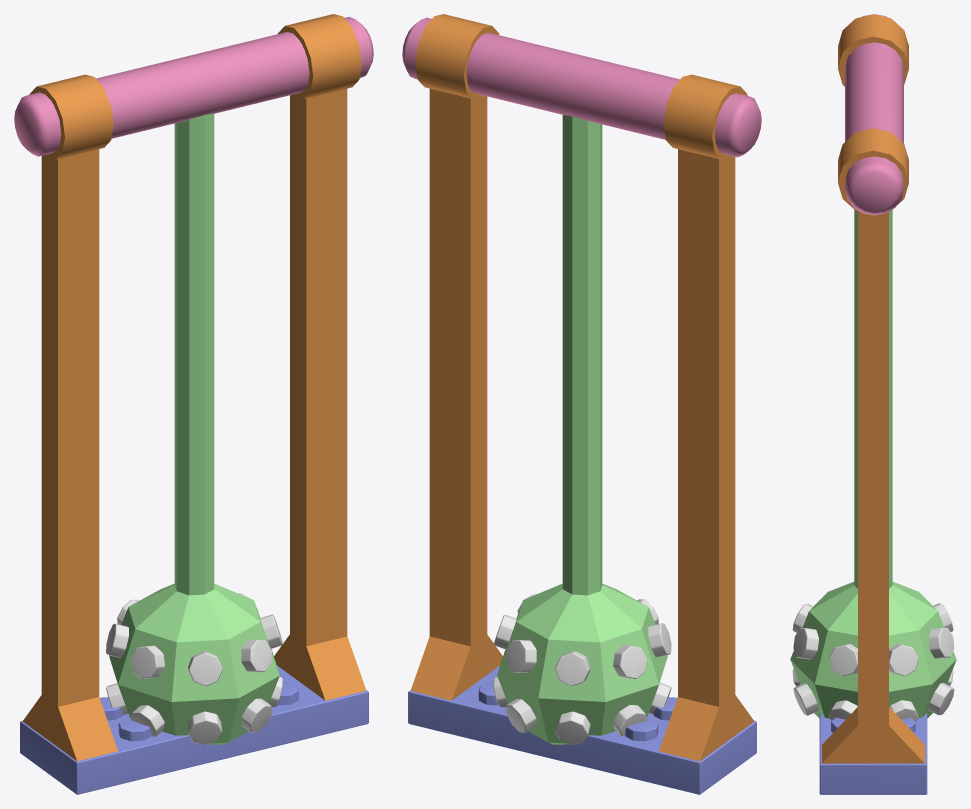
File: engel_yeni.fbx
3 views of the same model, side by side, from view 1: azimuth 30°, elevation 25°; view 2: azimuth 150°, elevation 25°; view 3: azimuth 270°, elevation 25° (orthographic). The views are drawn at different scales.
Parts seen in each view (by area): view 1: salincak, gurz, engel_demir, engelplatform_salincak_alt.001; view 2: salincak, gurz, engel_demir, engelplatform_salincak_alt.001; view 3: salincak, gurz, engel_demir, engelplatform_salincak_alt.001.
Boxes of the visible parts, bbox=[...] form: salincak: bbox=[22, 14, 366, 761]; gurz: bbox=[106, 113, 282, 744]; engel_demir: bbox=[14, 17, 373, 156]; engelplatform_salincak_alt.001: bbox=[20, 665, 368, 794]; salincak: bbox=[410, 14, 754, 761]; gurz: bbox=[493, 114, 671, 744]; engel_demir: bbox=[402, 17, 761, 157]; engelplatform_salincak_alt.001: bbox=[408, 665, 756, 794]; salincak: bbox=[822, 14, 924, 763]; gurz: bbox=[790, 210, 956, 721]; engel_demir: bbox=[845, 14, 903, 215]; engelplatform_salincak_alt.001: bbox=[819, 713, 927, 794].
Size of the model in its own units: 3.09 by 6.08 by 1.41.
